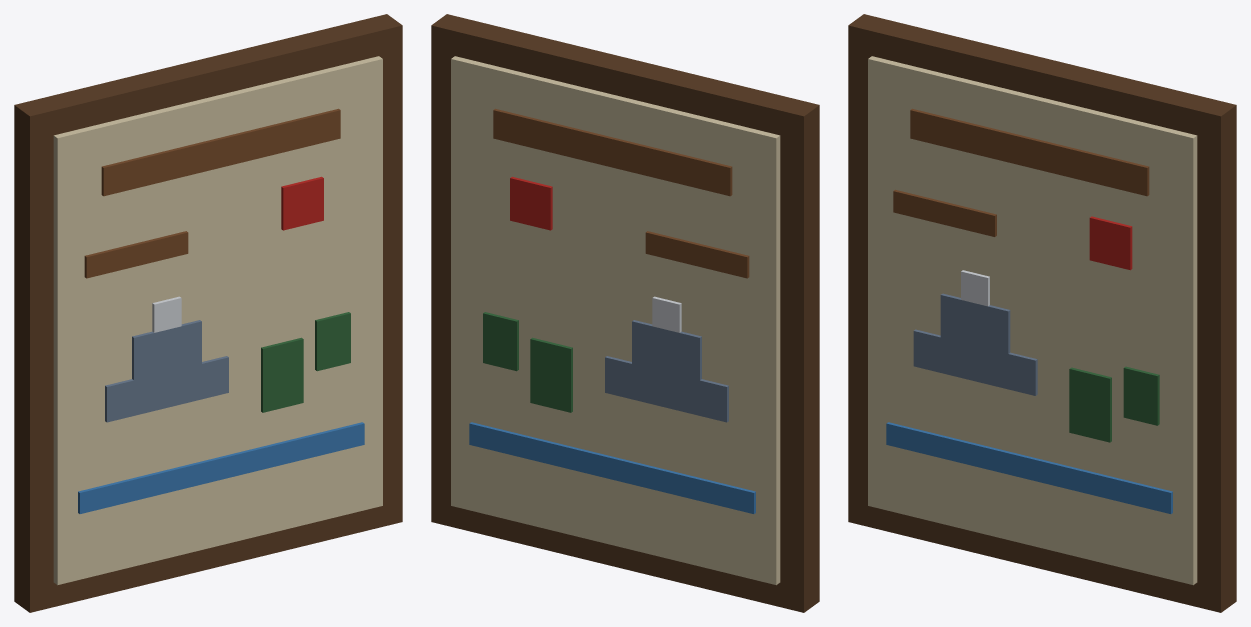
File: ntu-map-poster.glb
3 views of the same model, side by side, from view 1: azimuth 30°, elevation 25°; view 2: azimuth 150°, elevation 25°; view 3: azimuth 330°, elevation 25° (orthographic).
Parts seen in each view (by area): view 1: box-prop; view 2: box-prop; view 3: box-prop.
Boxes of the visible parts, left/top/right/bottom form: box-prop: left=14, top=14, right=402, bottom=612; box-prop: left=431, top=14, right=819, bottom=612; box-prop: left=848, top=14, right=1236, bottom=612.
Bounding box in the file's own units: 1.1 × 1.4 × 0.14.
